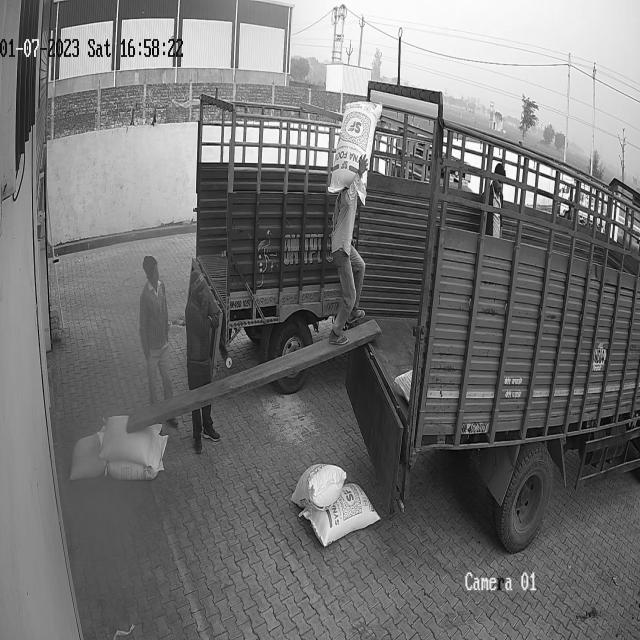sack: (328, 101, 382, 204), (298, 483, 381, 546), (100, 415, 162, 466), (104, 434, 168, 479), (291, 462, 346, 512), (70, 428, 107, 479)
